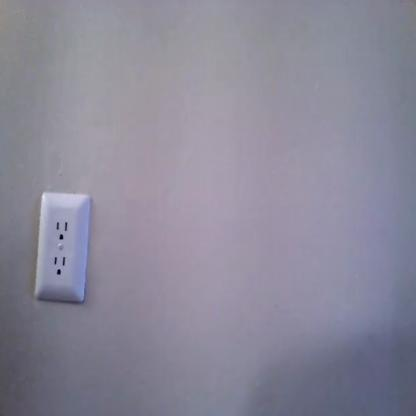OUTLET: (38, 193, 86, 300)
